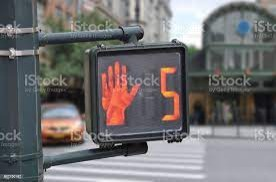pedestrian_stop: (94, 50, 153, 138)
